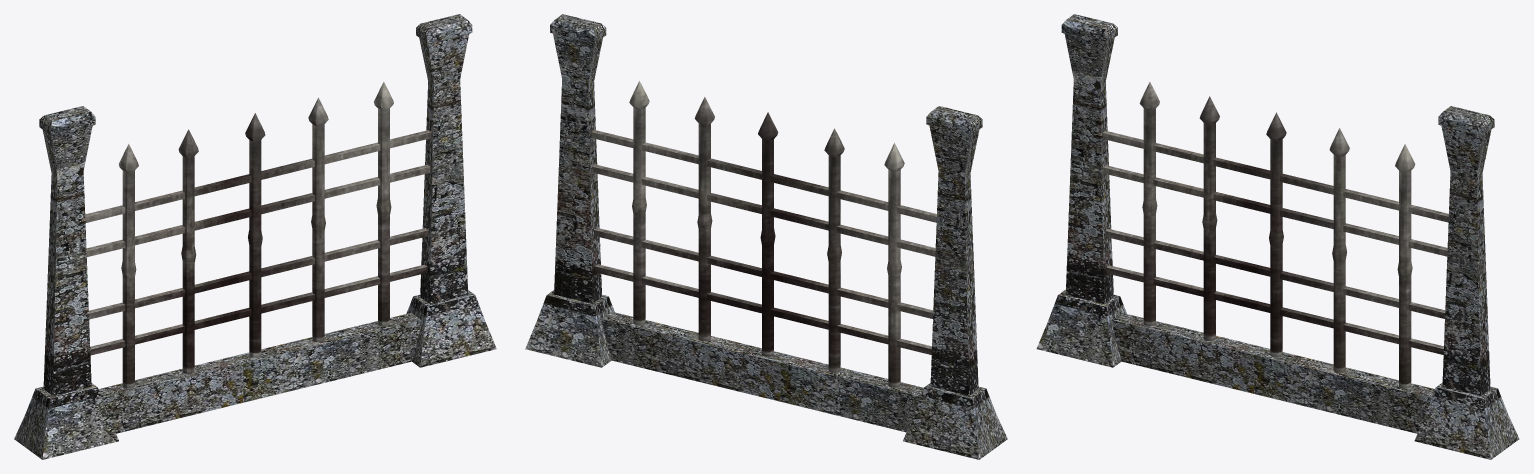
The model's file is barrière.FBX.
3 renders of one model, left to right at view 1: azimuth 30°, elevation 25°; view 2: azimuth 150°, elevation 25°; view 3: azimuth 330°, elevation 25°, orthographic.
Visible parts, largest first — view 1: Box003; view 2: Box003; view 3: Box003.
Part boxes in pixels (x1,y1,x2,y2): Box003: [14, 14, 496, 459]; Box003: [525, 14, 1007, 459]; Box003: [1036, 14, 1519, 459].
Bounding box in the file's own units: 180 × 123 × 19.51.
Materials: 6 (2 with a texture image).
